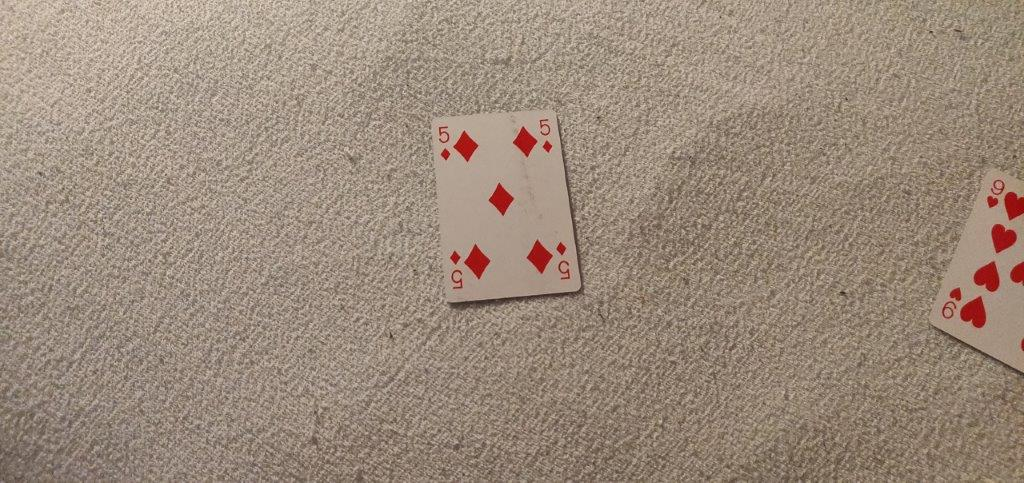5D: (537, 115, 556, 156), (436, 123, 453, 161)
9H: (982, 174, 1006, 213)
